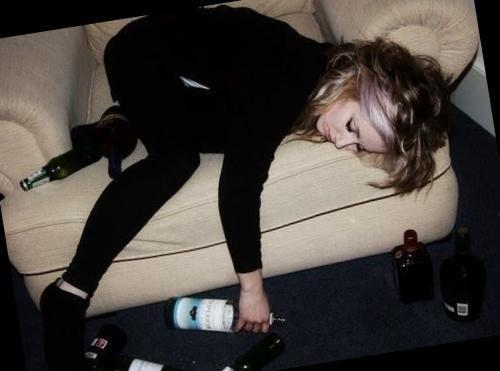Drunk: (313, 105, 393, 156)
